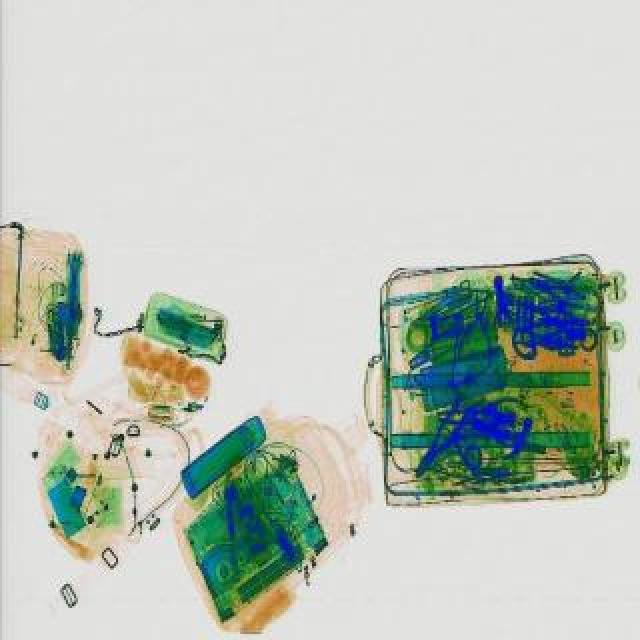wrench: (404, 394, 478, 486), (450, 284, 502, 362), (402, 324, 466, 372), (524, 270, 588, 310)
